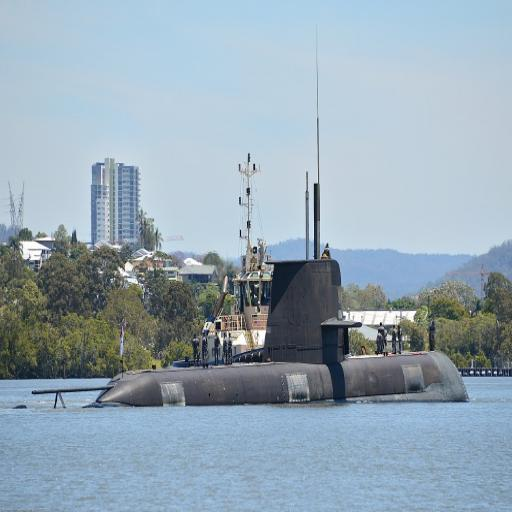submarine: (94, 256, 471, 406)
